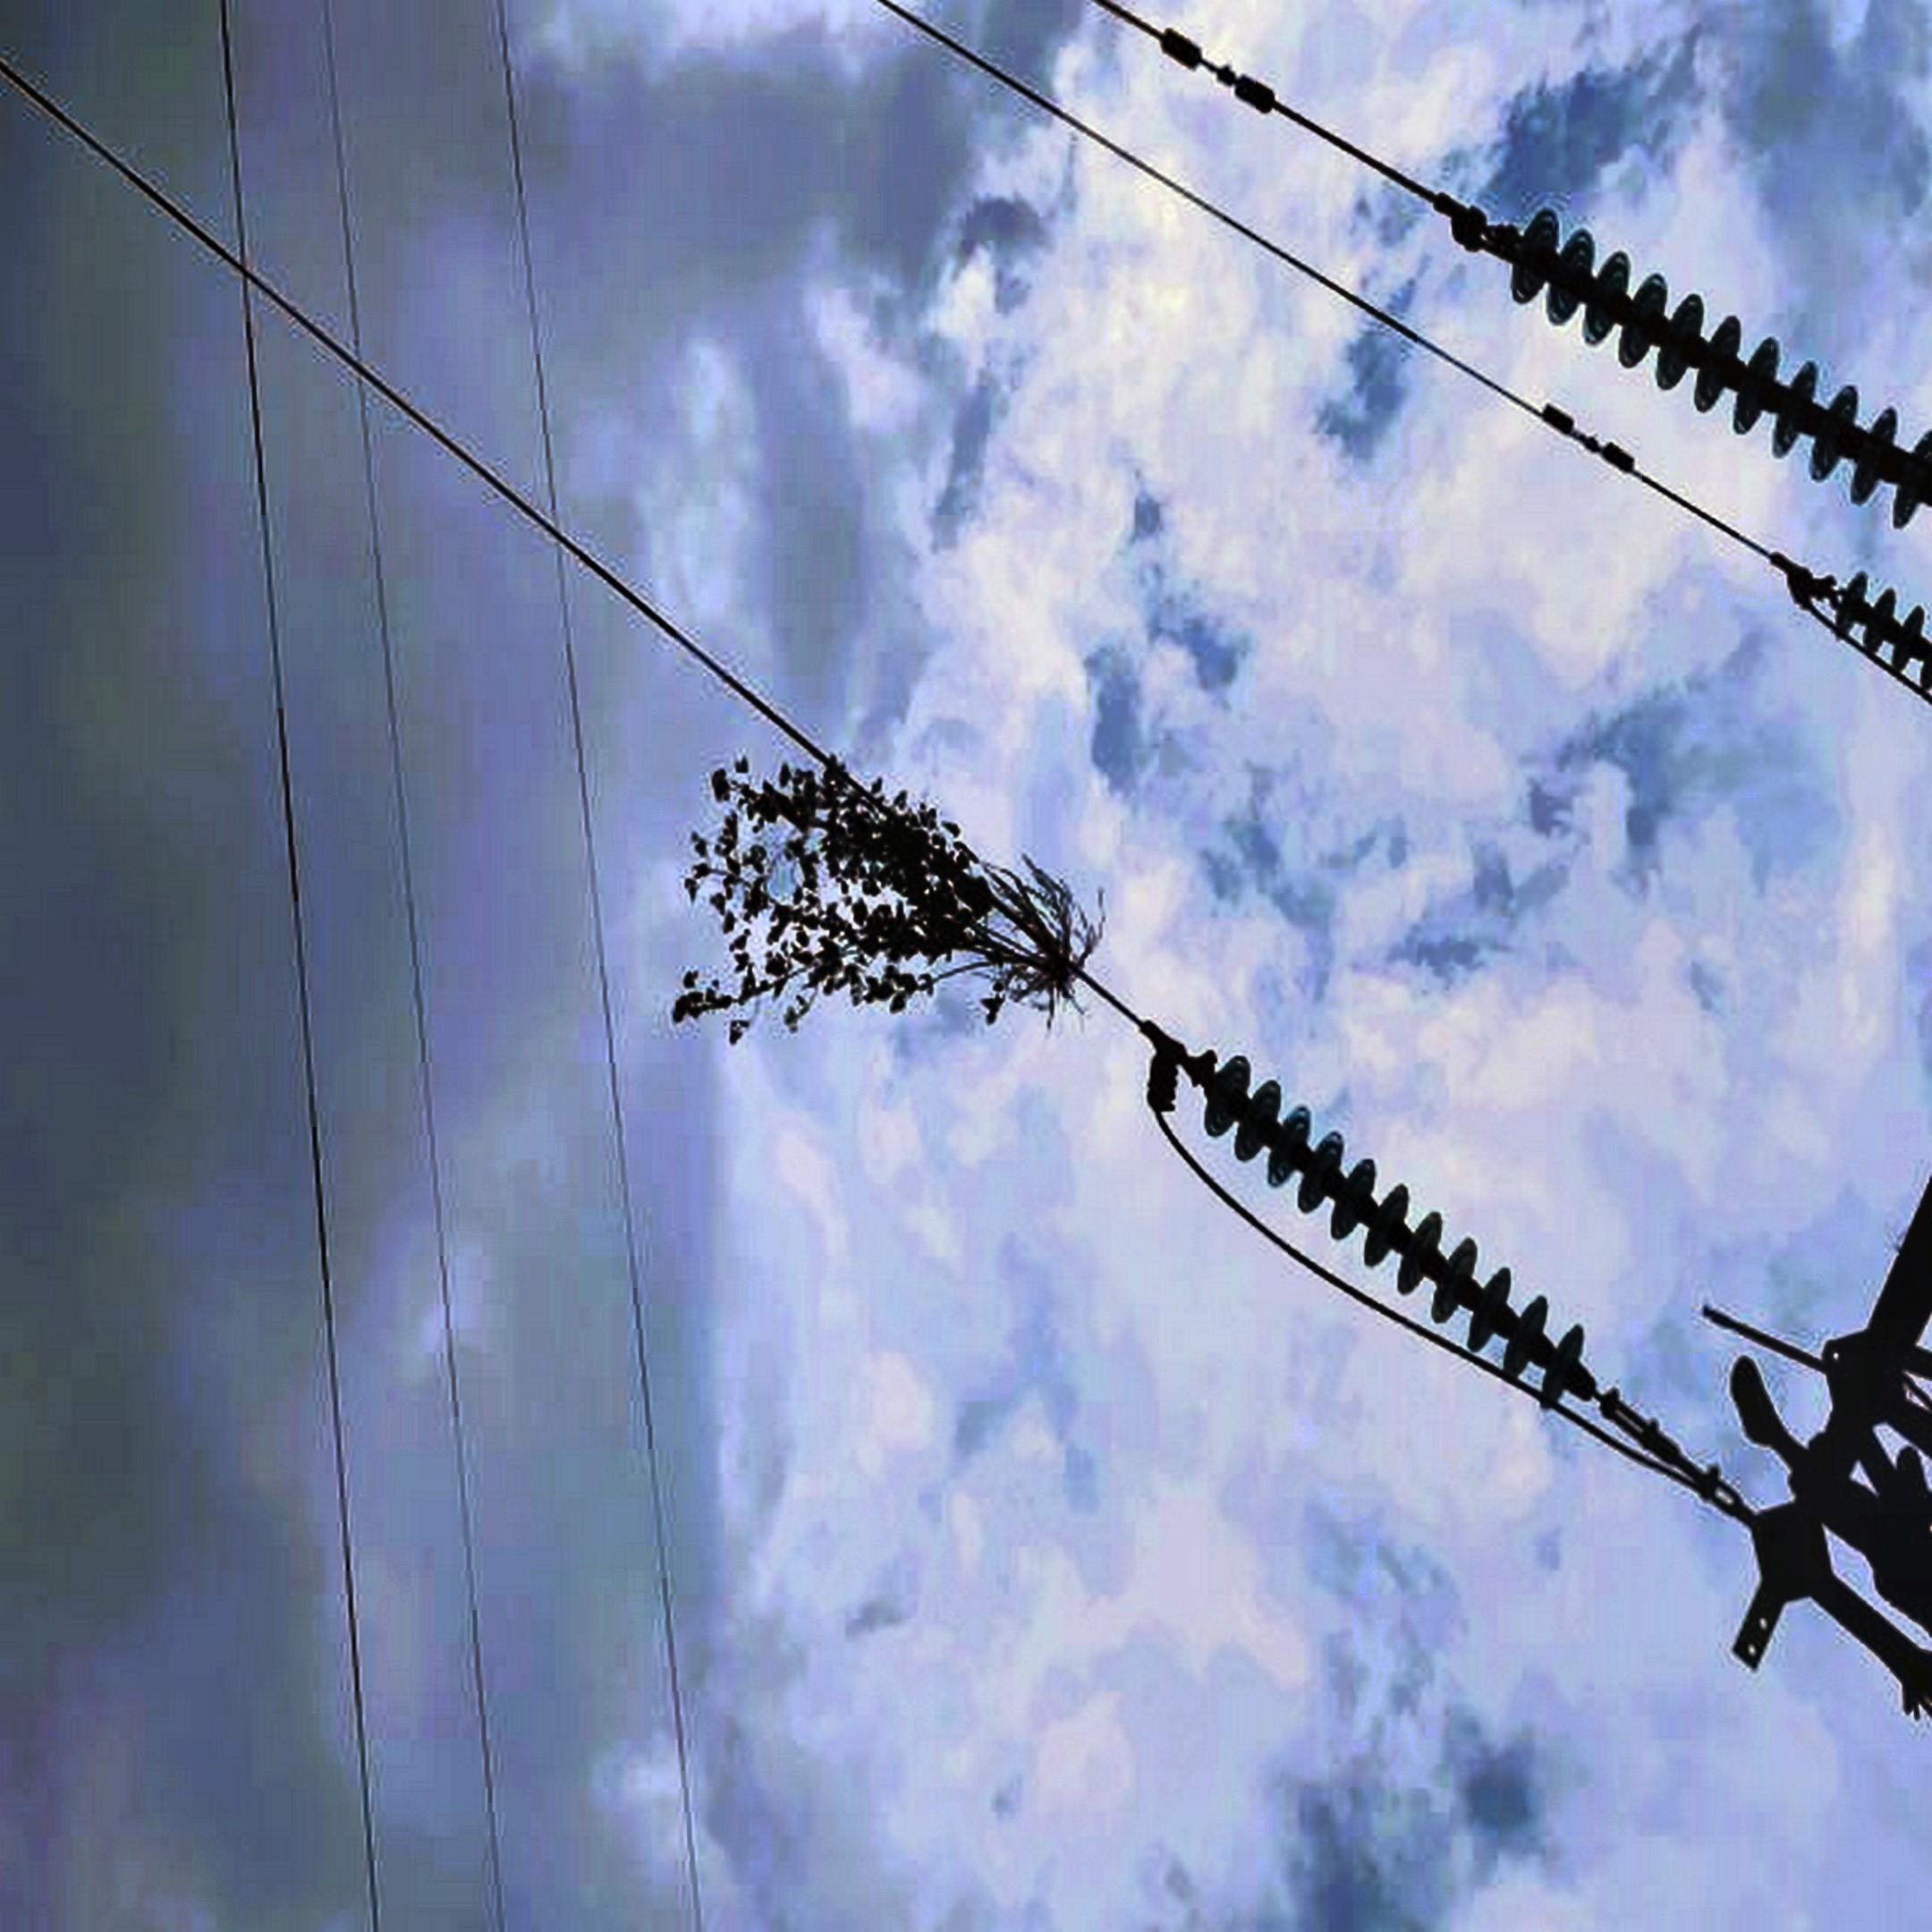wire foreign body: (655, 717, 1129, 1065)
